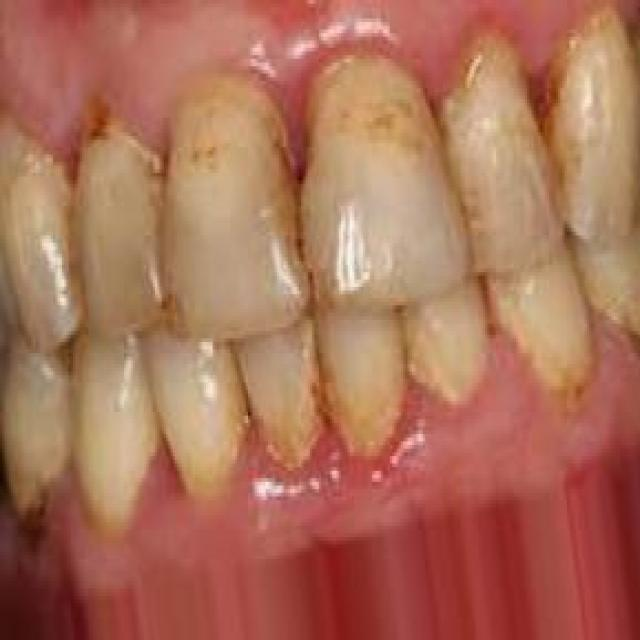calculus: (294, 32, 464, 318), (162, 40, 300, 339), (435, 0, 560, 275), (70, 75, 173, 348), (490, 233, 595, 428), (548, 16, 640, 228), (236, 304, 333, 490), (311, 296, 409, 460), (396, 264, 496, 418)
